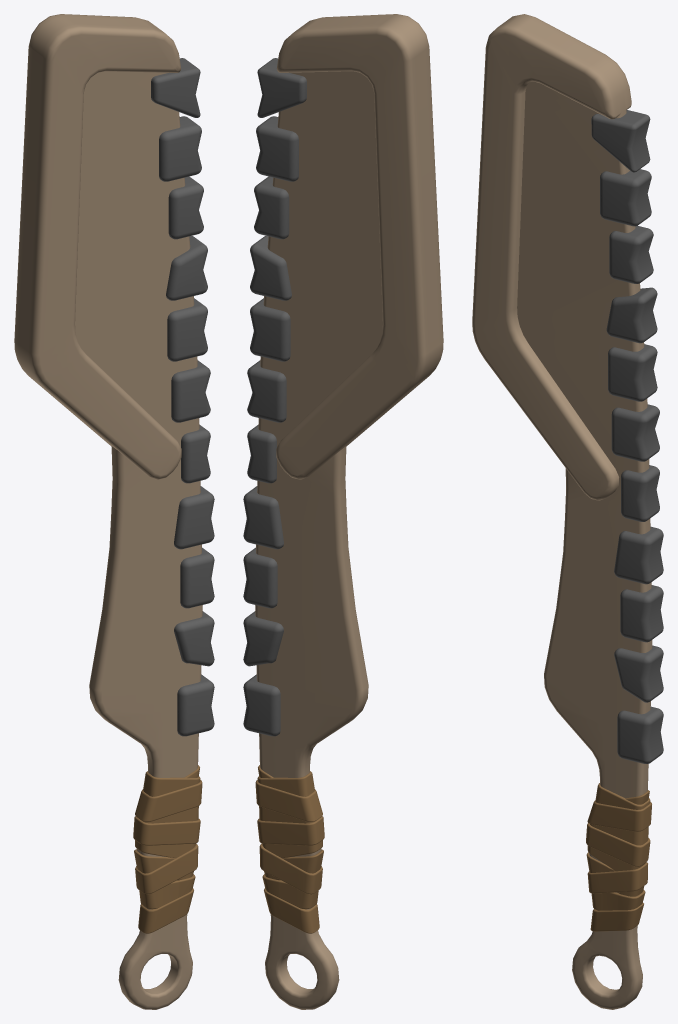
Rendered from MayanSword.fbx.
3 views of the same model, side by side, from view 1: azimuth 30°, elevation 25°; view 2: azimuth 150°, elevation 25°; view 3: azimuth 330°, elevation 25° (orthographic). The views are drawn at different scales.
Parts seen in each view (by area): view 1: MayanSword; view 2: MayanSword; view 3: MayanSword.
Part boxes in pixels (left/top/right/bottom): MayanSword: left=14, top=14, right=214, bottom=1009; MayanSword: left=243, top=14, right=443, bottom=1009; MayanSword: left=472, top=14, right=663, bottom=1009.
Size of the model in its own units: 24.91 by 130 by 5.3.
